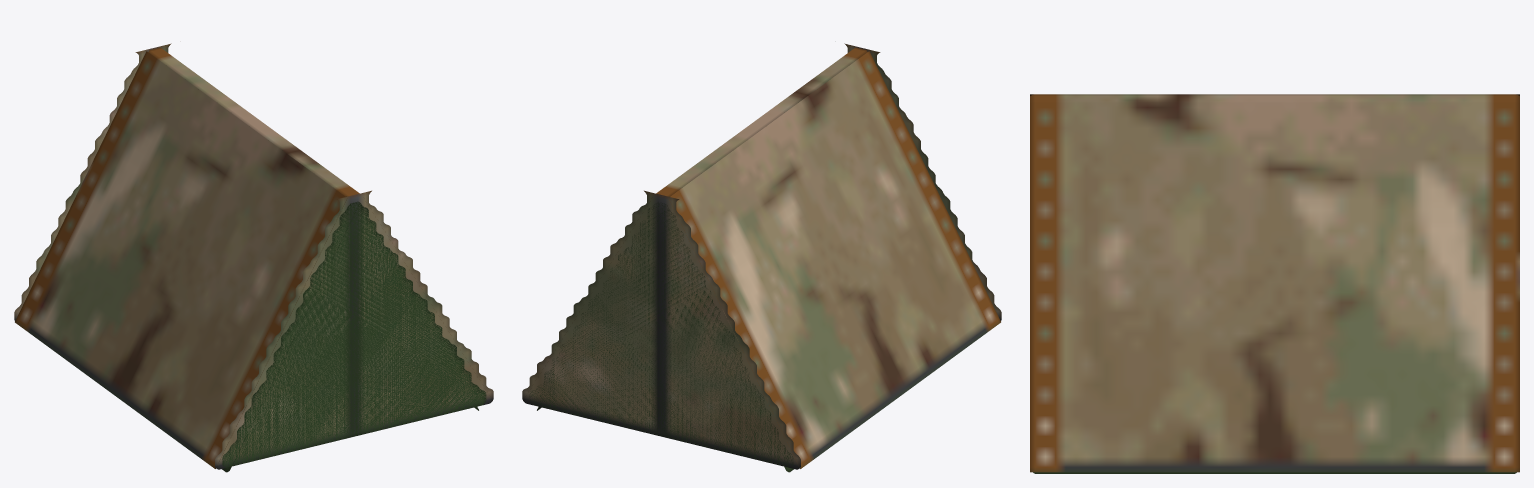
Rendered from tent.obj.
3 views of the same model, side by side, from view 1: azimuth 30°, elevation 25°; view 2: azimuth 150°, elevation 25°; view 3: azimuth 270°, elevation 25° (orthographic). The views are drawn at different scales.
Visible parts, largest first — view 1: cube; view 2: cube; view 3: cube.
Part boxes in pixels (<box>): cube: <box>14,43,493,472</box>; cube: <box>522,43,1001,472</box>; cube: <box>1030,94,1519,473</box>.
Size of the model in its own units: 2.38 by 2.02 by 2.97.
